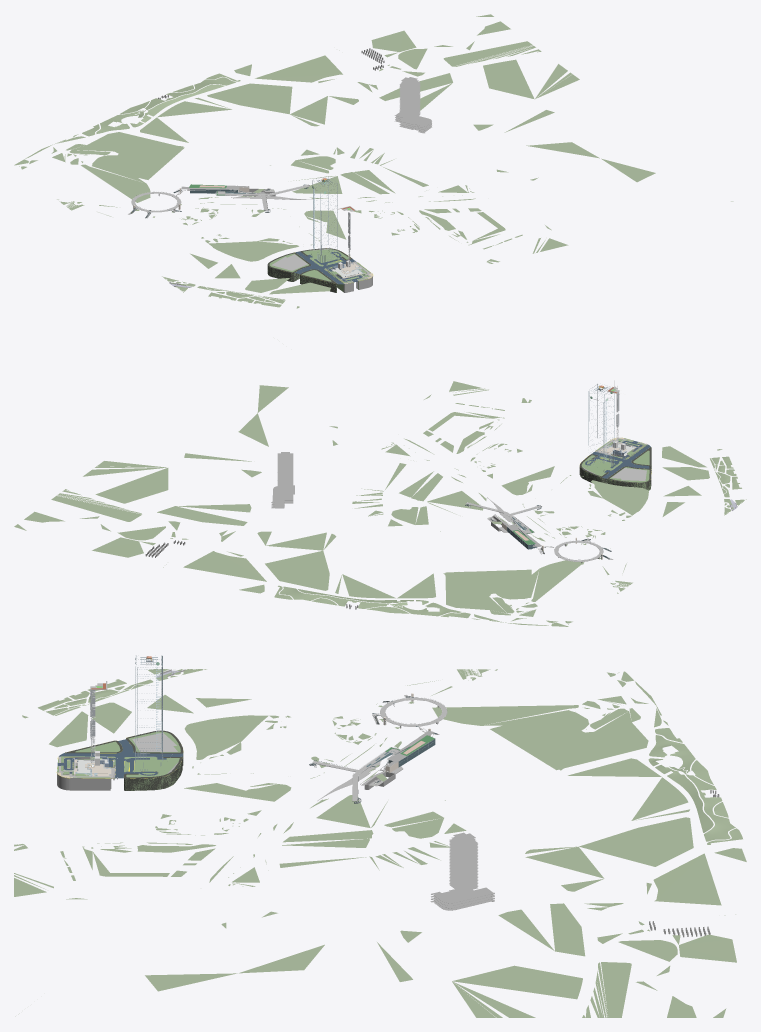
The model's file is lujiazui-6.glb.
3 renders of one model, top to bottom at view 1: azimuth 30°, elevation 25°; view 2: azimuth 150°, elevation 25°; view 3: azimuth 270°, elevation 25°, orthographic. The views are drawn at different scales.
Parts seen in each view (by area): view 1: source_3121_Mat3d66-1303573-2055-5153_part0, source_3120_Mat3d66-1303573-2153-4388_part0, source_3361_DX_草地_part0, source_3360_Mat3d66-1303573-2112-4460_part0, source_2997_Mat3d66-1303573-2119-613_part0, source_3301_Mat3d66-1303573-2113-6182_part0, source_3023_Mat3d66-1303573-326-7287_part0; view 2: source_3121_Mat3d66-1303573-2055-5153_part0, source_3120_Mat3d66-1303573-2153-4388_part0, source_3361_DX_草地_part0, source_3360_Mat3d66-1303573-2112-4460_part0, source_2997_Mat3d66-1303573-2119-613_part0, source_3301_Mat3d66-1303573-2113-6182_part0, source_3023_Mat3d66-1303573-326-7287_part0; view 3: source_3121_Mat3d66-1303573-2055-5153_part0, source_3120_Mat3d66-1303573-2153-4388_part0, source_3361_DX_草地_part0, source_3360_Mat3d66-1303573-2112-4460_part0, source_3301_Mat3d66-1303573-2113-6182_part0, source_3023_Mat3d66-1303573-326-7287_part0, source_2997_Mat3d66-1303573-2119-613_part0, source_3262_Mat3d66-1303573-2114-8479_part0, source_3248_Mat3d66-1303573-2095-4192_part0, source_3029_Mat3d66-1303573-289-6904_part0.
Part boxes in pixels (box(x1,y1,x2,y2)): source_3121_Mat3d66-1303573-2055-5153_part0: box(14, 14, 733, 308); source_3120_Mat3d66-1303573-2153-4388_part0: box(395, 77, 431, 133); source_3361_DX_草地_part0: box(267, 249, 349, 292); source_3360_Mat3d66-1303573-2112-4460_part0: box(267, 248, 352, 292); source_2997_Mat3d66-1303573-2119-613_part0: box(311, 177, 337, 262); source_3301_Mat3d66-1303573-2113-6182_part0: box(294, 251, 355, 284); source_3023_Mat3d66-1303573-326-7287_part0: box(131, 185, 309, 212); source_3121_Mat3d66-1303573-2055-5153_part0: box(14, 381, 746, 626); source_3120_Mat3d66-1303573-2153-4388_part0: box(271, 452, 294, 508); source_3361_DX_草地_part0: box(579, 450, 651, 490); source_3360_Mat3d66-1303573-2112-4460_part0: box(579, 447, 651, 489); source_2997_Mat3d66-1303573-2119-613_part0: box(588, 384, 614, 471); source_3301_Mat3d66-1303573-2113-6182_part0: box(585, 444, 650, 478); source_3023_Mat3d66-1303573-326-7287_part0: box(467, 502, 603, 561); source_3121_Mat3d66-1303573-2055-5153_part0: box(14, 669, 746, 1017); source_3120_Mat3d66-1303573-2153-4388_part0: box(430, 832, 494, 910); source_3361_DX_草地_part0: box(75, 731, 183, 790); source_3360_Mat3d66-1303573-2112-4460_part0: box(65, 730, 183, 790); source_3301_Mat3d66-1303573-2113-6182_part0: box(59, 739, 183, 778); source_3023_Mat3d66-1303573-326-7287_part0: box(313, 698, 446, 800); source_2997_Mat3d66-1303573-2119-613_part0: box(135, 655, 172, 770); source_3262_Mat3d66-1303573-2114-8479_part0: box(57, 758, 110, 790); source_3248_Mat3d66-1303573-2095-4192_part0: box(132, 733, 177, 751); source_3029_Mat3d66-1303573-289-6904_part0: box(310, 697, 447, 803).
Bounding box in the file's own units: 1500 × 244 × 1333.
